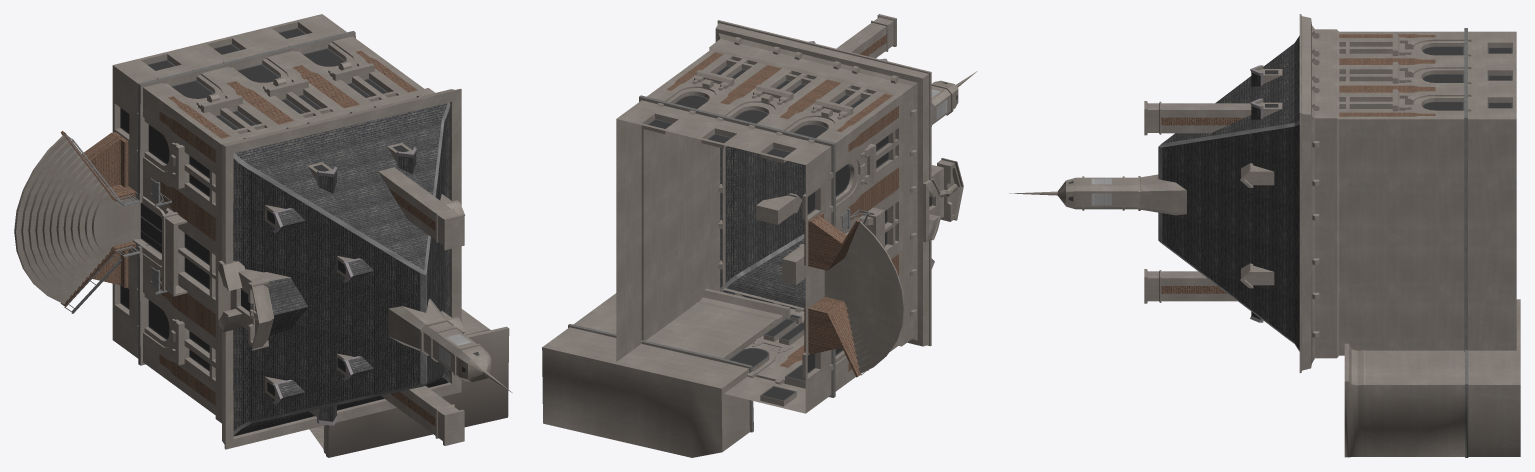
File: LEG-city_hall-1.obj
3 views of the same model, side by side, from view 1: azimuth 30°, elevation 25°; view 2: azimuth 150°, elevation 25°; view 3: azimuth 270°, elevation 25° (orthographic). The views are drawn at different scales.
Visible parts, largest first — view 1: GEO-city_hall; view 2: GEO-city_hall; view 3: GEO-city_hall.
Boxes of the visible parts, left/top/right/bottom form: GEO-city_hall: left=14, top=14, right=512, bottom=457; GEO-city_hall: left=542, top=14, right=977, bottom=457; GEO-city_hall: left=1009, top=14, right=1520, bottom=457.
Bounding box in the file's own units: 22.19 × 19.55 × 28.7.
Materials: 5 (5 with a texture image).
